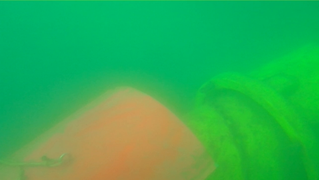leak: (1, 85, 218, 180)
pipe: (180, 37, 317, 180)
